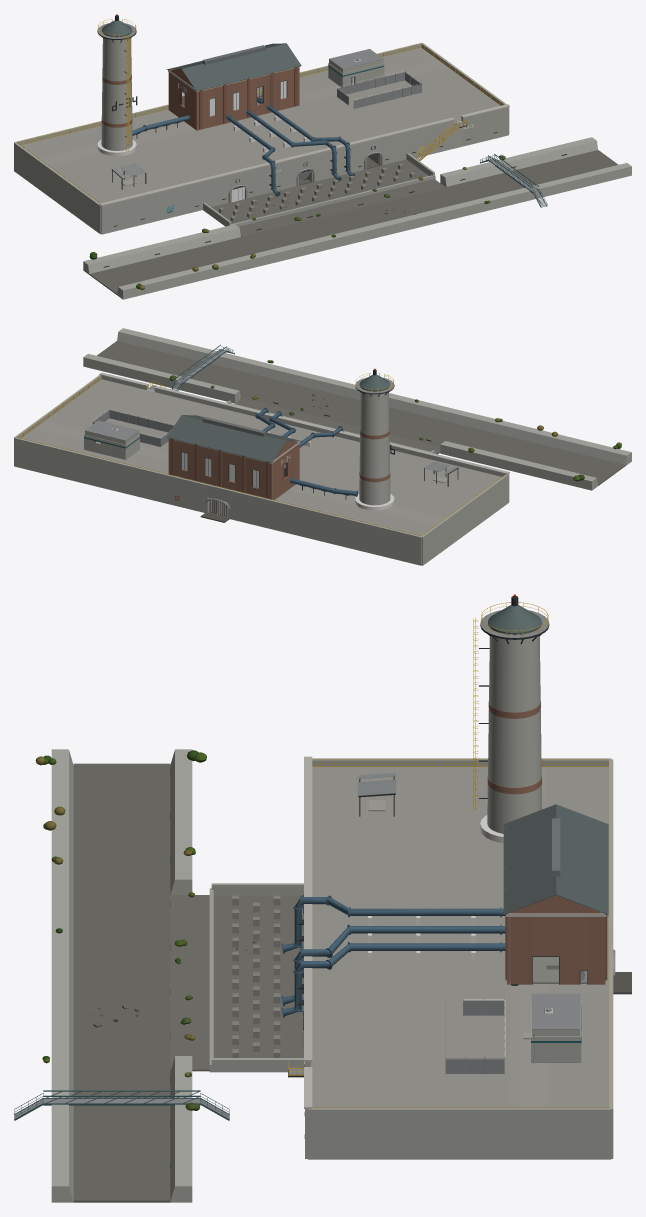
The model's file is drainage-works.glb.
The picture shows the model from 3 angles, top to bottom: view 1: azimuth 30°, elevation 25°; view 2: azimuth 150°, elevation 25°; view 3: azimuth 270°, elevation 25°; orthographic projection. The views are drawn at different scales.
Parts seen in each view (by area): view 1: C0_0_lod0, C0_-1_lod0, C-1_0_lod0, C-2_0_lod0, C-2_-1_lod0, C1_-1_lod0, C1_0_lod0, C-1_-1_lod0; view 2: C0_0_lod0, C0_-1_lod0, C-1_0_lod0, C-2_0_lod0, C-2_-1_lod0, C1_-1_lod0, C1_0_lod0; view 3: C0_0_lod0, C0_-1_lod0, C-1_0_lod0, C1_0_lod0, C-2_-1_lod0, C-1_-1_lod0, C1_-1_lod0, C-2_0_lod0.
Part boxes in pixels (left/top/right/bottom): C0_0_lod0: left=17, top=43, right=500, bottom=203; C0_-1_lod0: left=89, top=117, right=631, bottom=299; C-1_0_lod0: left=14, top=14, right=454, bottom=234; C-2_0_lod0: left=14, top=133, right=126, bottom=234; C-2_-1_lod0: left=83, top=224, right=240, bottom=289; C1_-1_lod0: left=440, top=124, right=597, bottom=186; C1_0_lod0: left=383, top=43, right=509, bottom=146; C-1_-1_lod0: left=140, top=160, right=335, bottom=269; C0_0_lod0: left=14, top=379, right=501, bottom=536; C0_-1_lod0: left=97, top=328, right=631, bottom=485; C-1_0_lod0: left=154, top=368, right=509, bottom=565; C-2_0_lod0: left=421, top=466, right=509, bottom=565; C-2_-1_lod0: left=440, top=431, right=621, bottom=490; C1_-1_lod0: left=83, top=354, right=240, bottom=403; C1_0_lod0: left=14, top=372, right=148, bottom=465; C0_0_lod0: left=283, top=760, right=631, bottom=1158; C0_-1_lod0: left=14, top=749, right=304, bottom=1202; C-1_0_lod0: left=283, top=594, right=613, bottom=1061; C1_0_lod0: left=304, top=1067, right=611, bottom=1159; C-2_-1_lod0: left=35, top=749, right=206, bottom=894; C-1_-1_lod0: left=43, top=821, right=303, bottom=982; C1_-1_lod0: left=170, top=1056, right=304, bottom=1202; C-2_0_lod0: left=312, top=758, right=611, bottom=781.
Size of what is drawn, in the model's own units: 150 by 44.63 by 89.67.
